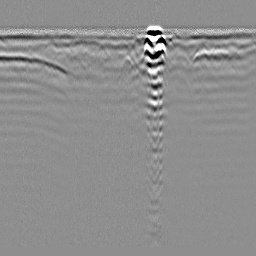cavity: (120, 53, 133, 70)
